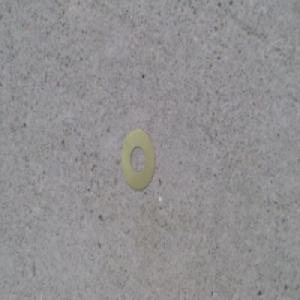Washer: (122, 127, 157, 191)
